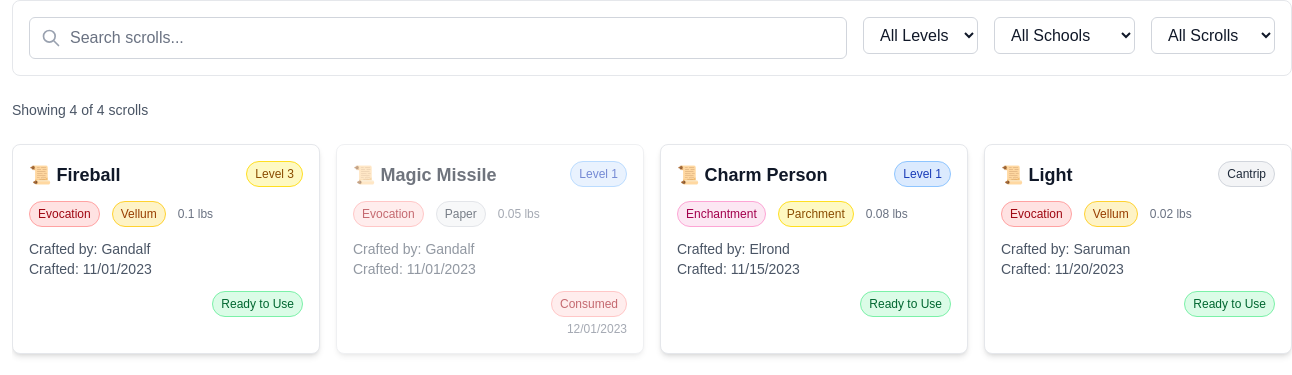
Test: MyScrollsSection › shows "no matches" message when filters return no results
Type "nonexistent spell" into the field with placeholder "Search scrolls..." at [438, 38], box [29,17,847,59]
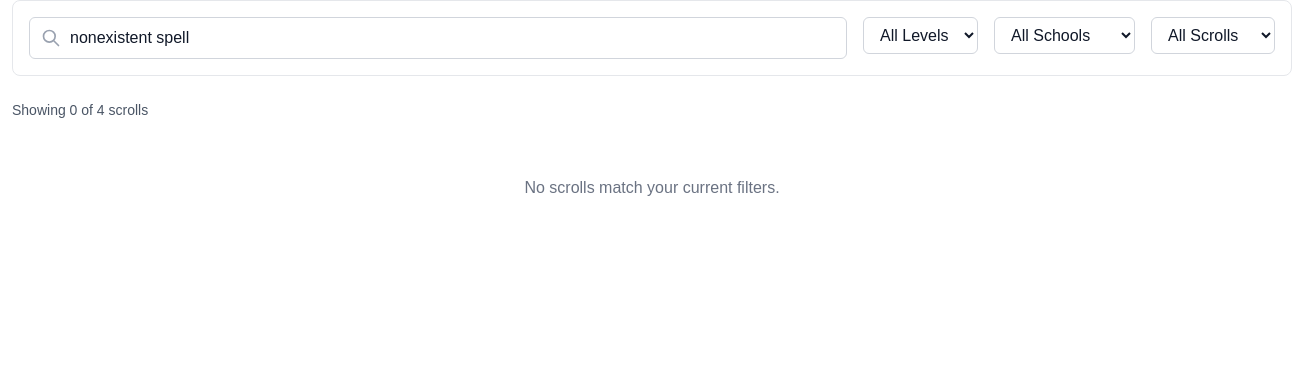
Check: the text "Showing 0 of 4 scrolls" is shown, box [12,102,148,118]
Check: the text "No scrolls match your current filters." is shown, box [524,179,780,196]
